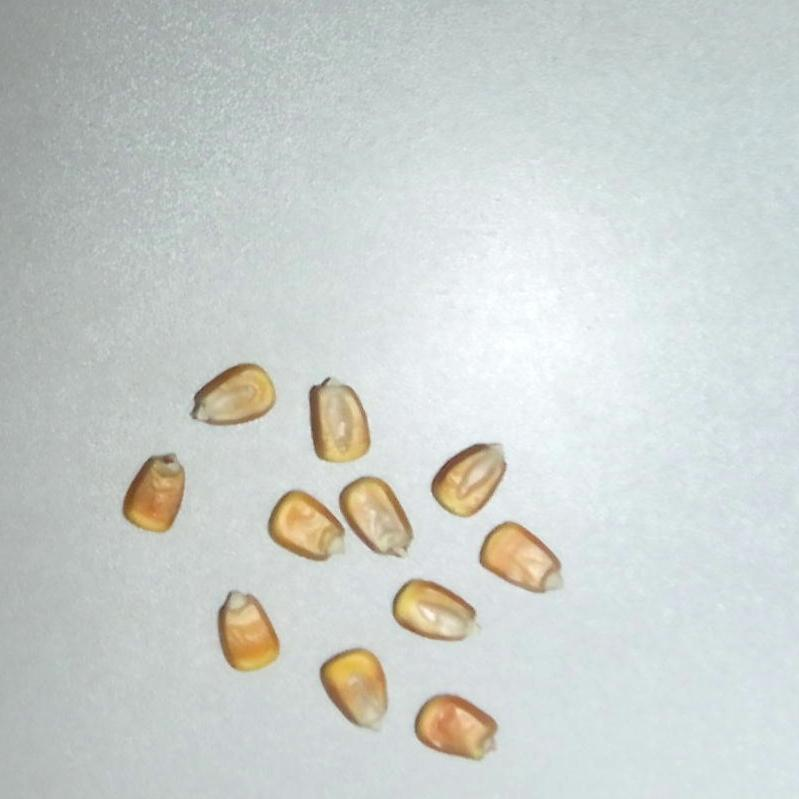corn: (313, 638, 411, 745), (332, 467, 425, 577), (423, 425, 521, 527), (473, 514, 578, 608), (384, 570, 491, 661), (260, 484, 362, 576), (183, 355, 284, 444), (203, 582, 286, 680), (117, 442, 198, 539), (410, 688, 508, 765), (308, 375, 372, 465)
